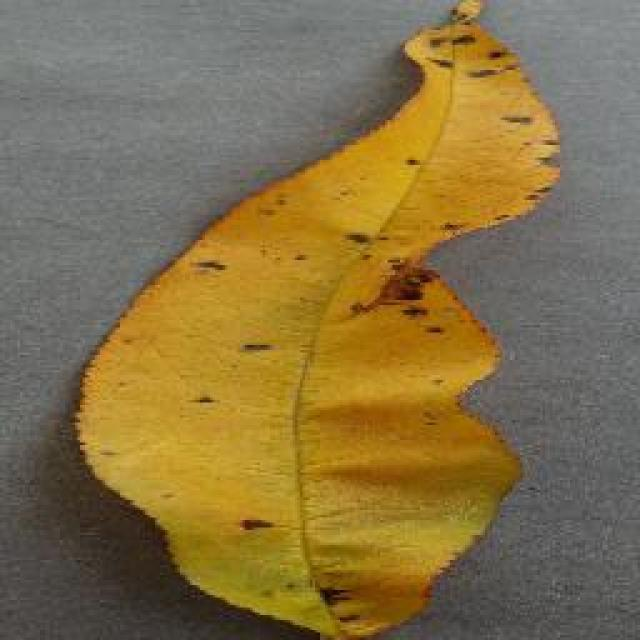Peach_Bacterial_Spot: (222, 108, 512, 602)
